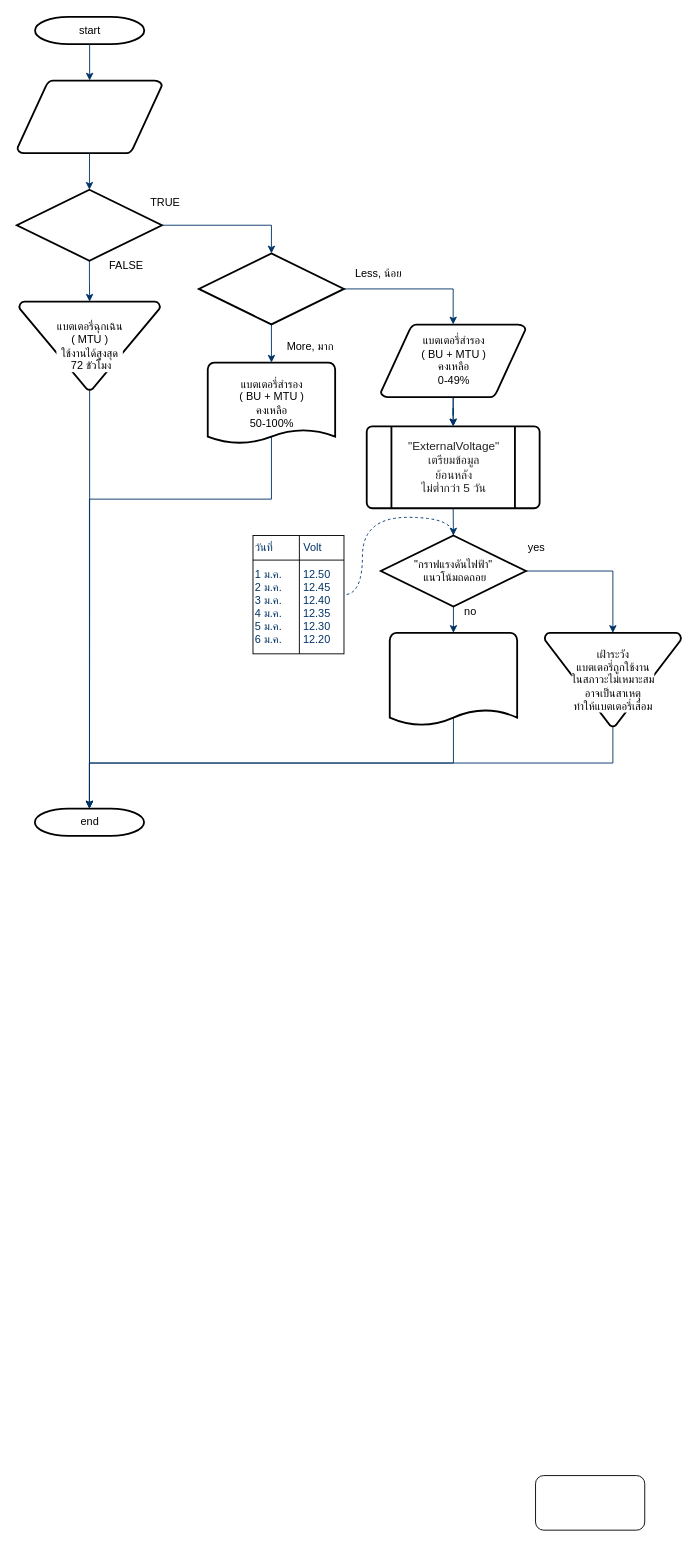
Image size: 697x1546. Some labels were removed from this diagram. The centre of each missing label's shape, as x and y in pixels:
" ExternalVoltage " น้อยกว่า <= 12.3 V: (x=270, y=288)
"HasExternalPower": (x=88, y=224)
เปิดแฟ้มข้อมูล XGA ส่วน RAW DATA: (x=89, y=116)
แบตเตอรี่สำรอง มีการชาร์จกระแสไฟฟ้า เป็นครั้งคราว แนะนำให้ชาร์จสม่ำเสมอ: (x=453, y=679)
